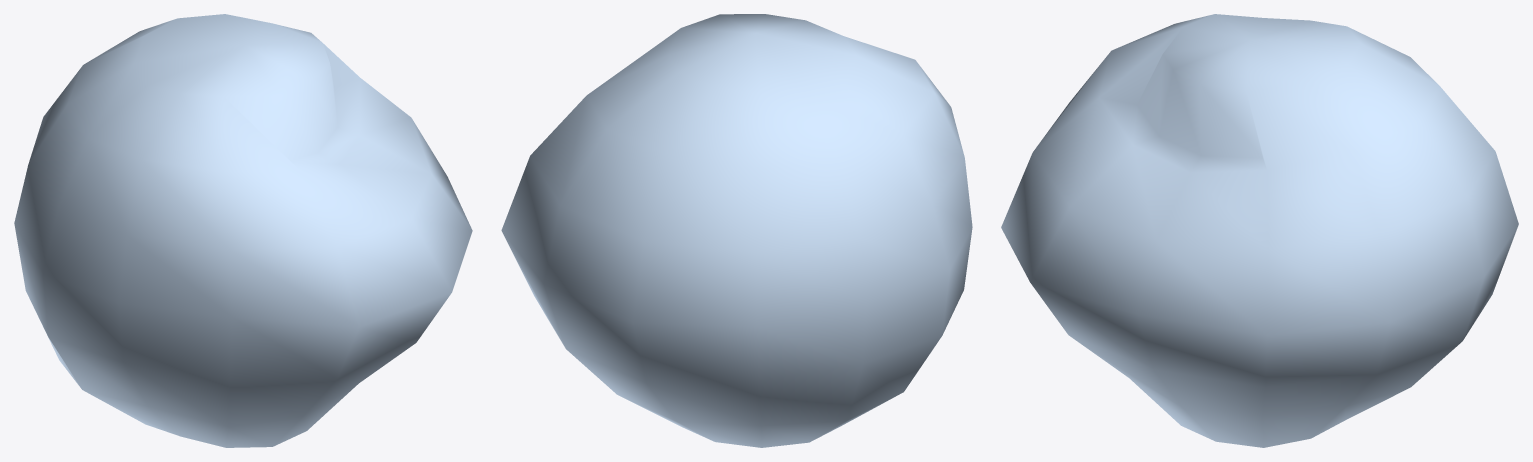
The model's file is lAsteroid1_coll.obj.
3 renders of one model, left to right at view 1: azimuth 30°, elevation 25°; view 2: azimuth 150°, elevation 25°; view 3: azimuth 270°, elevation 25°, orthographic.
Visible parts, largest first — view 1: sphere2; view 2: sphere2; view 3: sphere2.
Boxes of the visible parts, x1,y1,x2,y2 form: sphere2: (14, 14, 472, 447); sphere2: (501, 14, 972, 447); sphere2: (1001, 14, 1518, 447).
Bounding box in the file's own units: 22.34 × 20.55 × 24.23.
